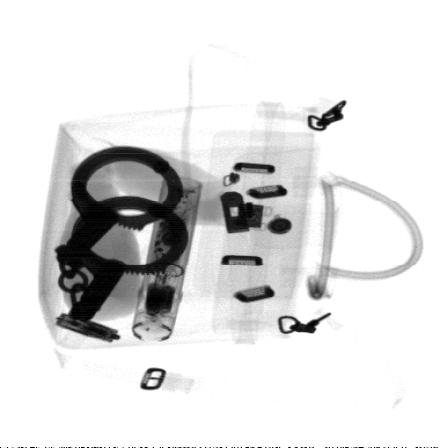Baton: (131, 174, 205, 345)
HandCuffs: (52, 145, 189, 329)
